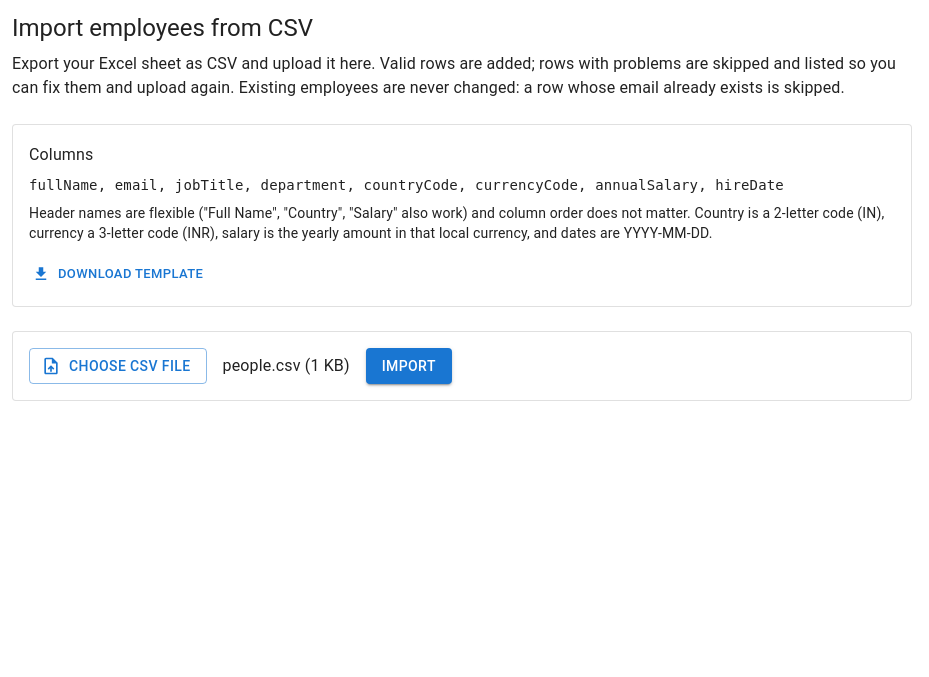
Test: ImportPage › says when the error list was cut off
Earlier steps of the test are not shown.
Click the button "Import" at (409, 366), box [366,348,452,384]
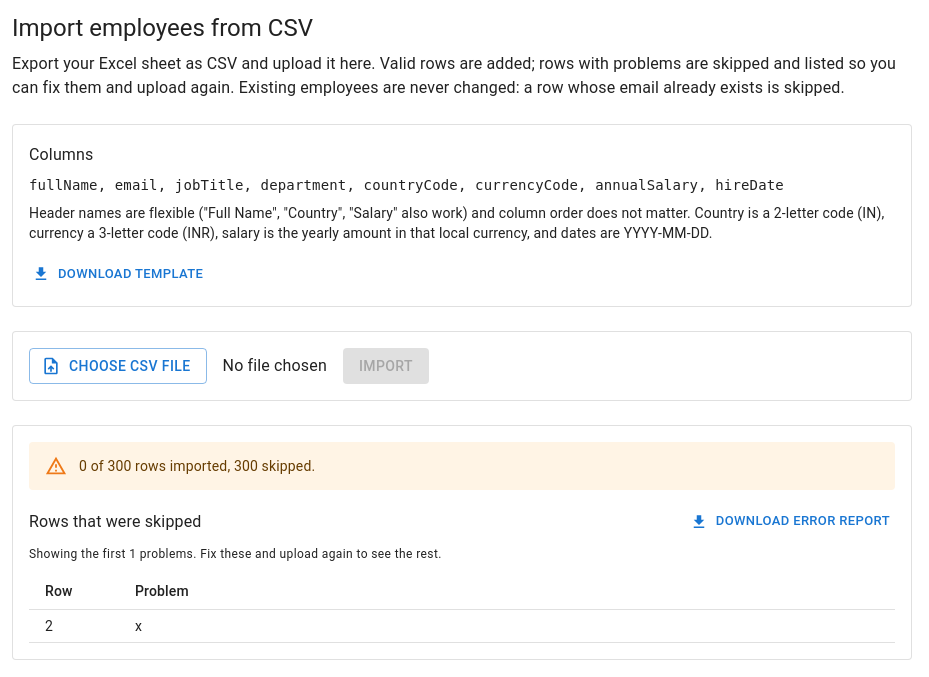
Expected: the text "Showing the first 1 problems" is shown, [29,547,442,561]
